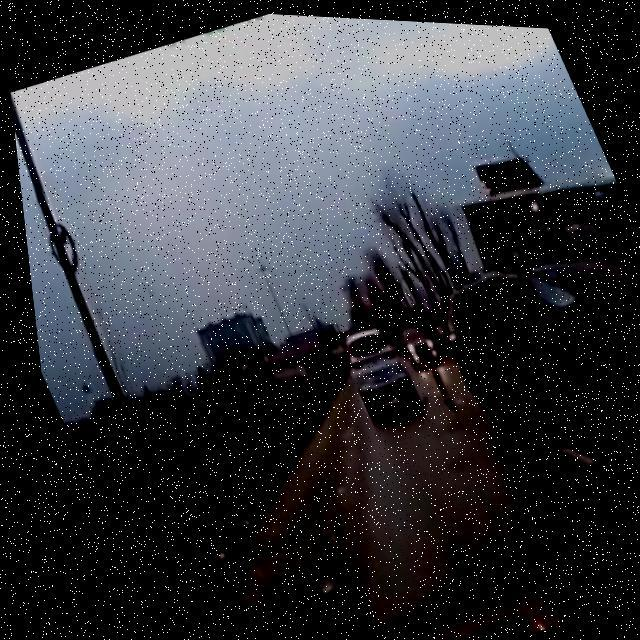Car Accident Detector - v4 Generation1 Exported: (376, 145, 640, 451)
